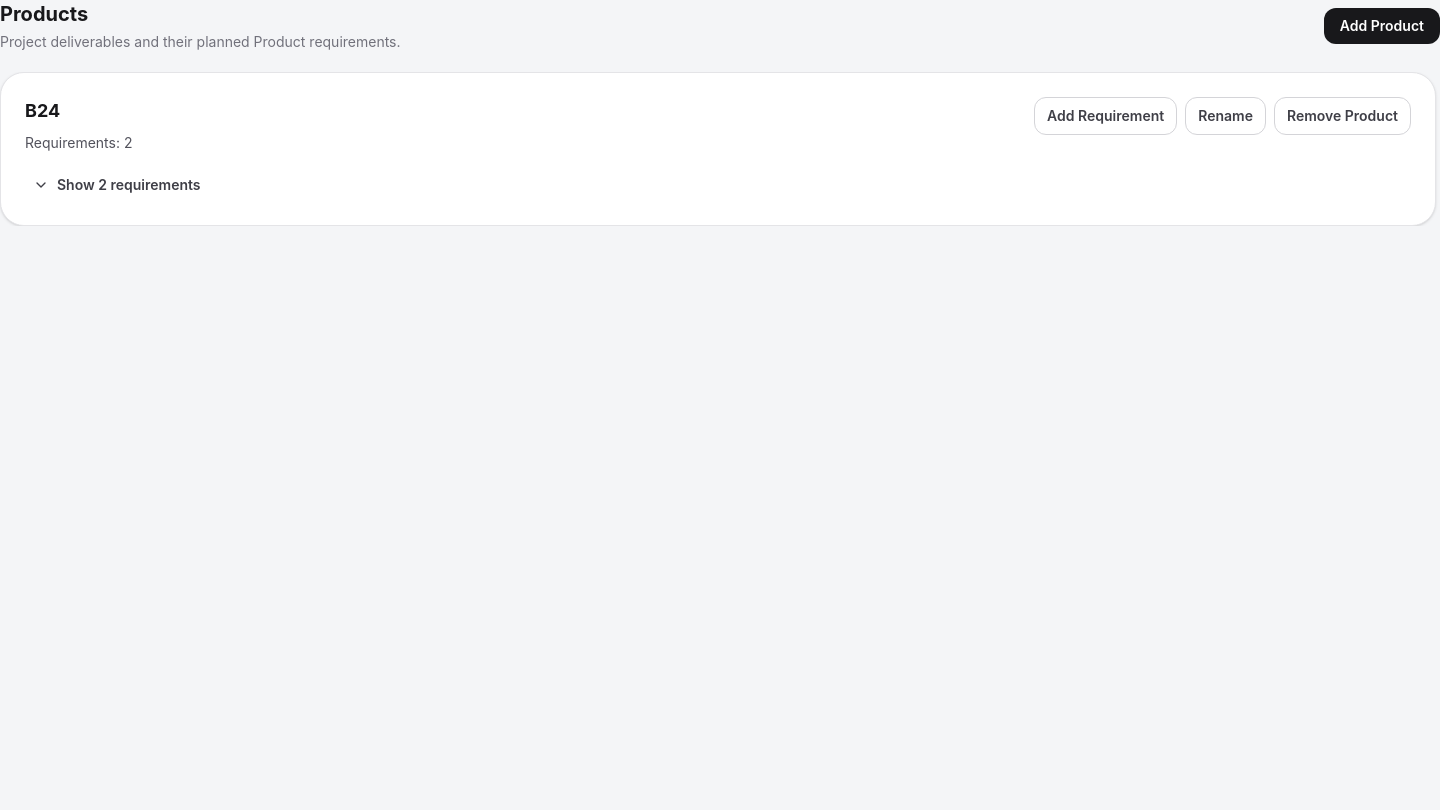
Test: ProjectPlanningSection › requires explicit removal and keeps child-present errors visible
Click the button "Remove Product" at (1342, 116), box left=1274, top=97, right=1411, bottom=135
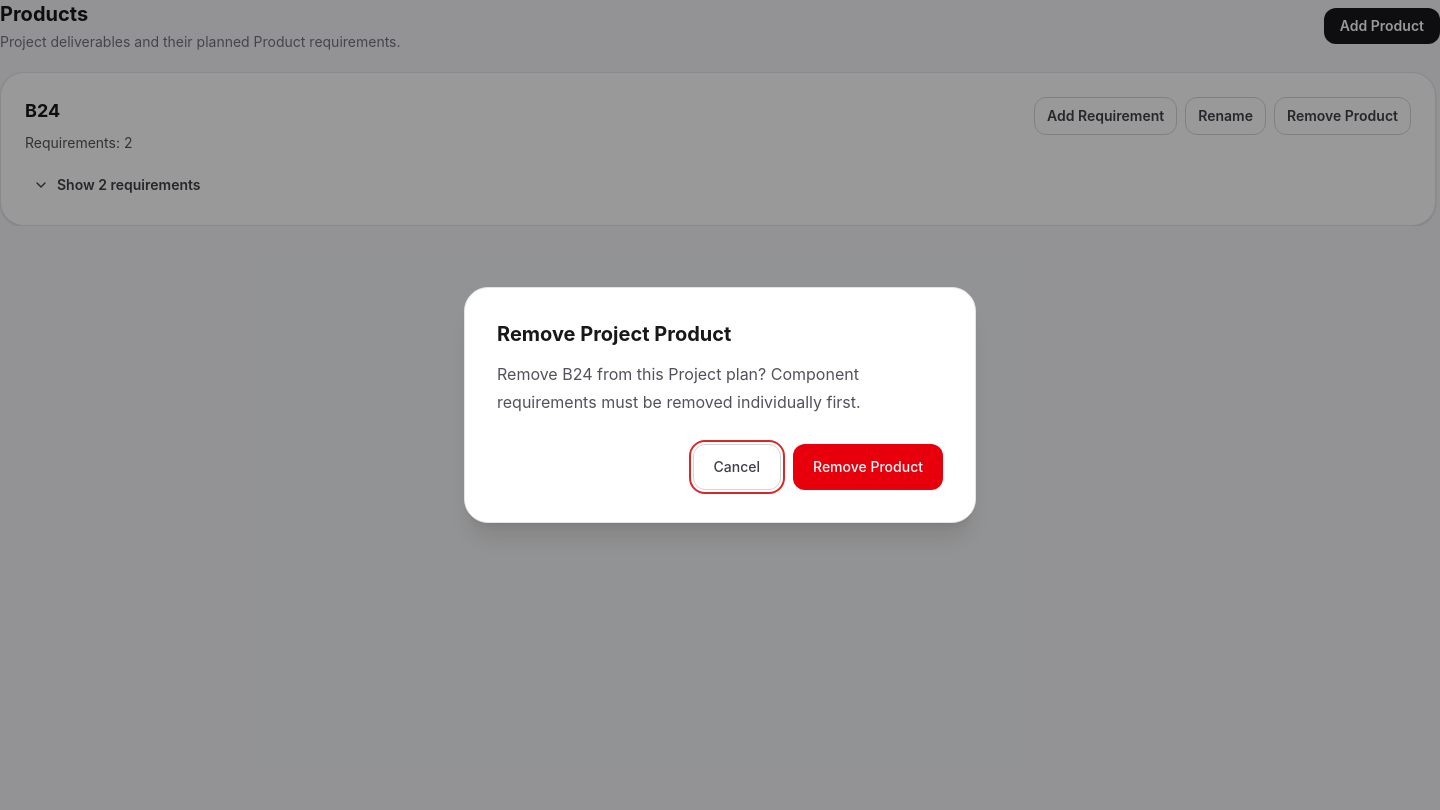
Click the button "Cancel" at (737, 467), box left=692, top=444, right=781, bottom=490
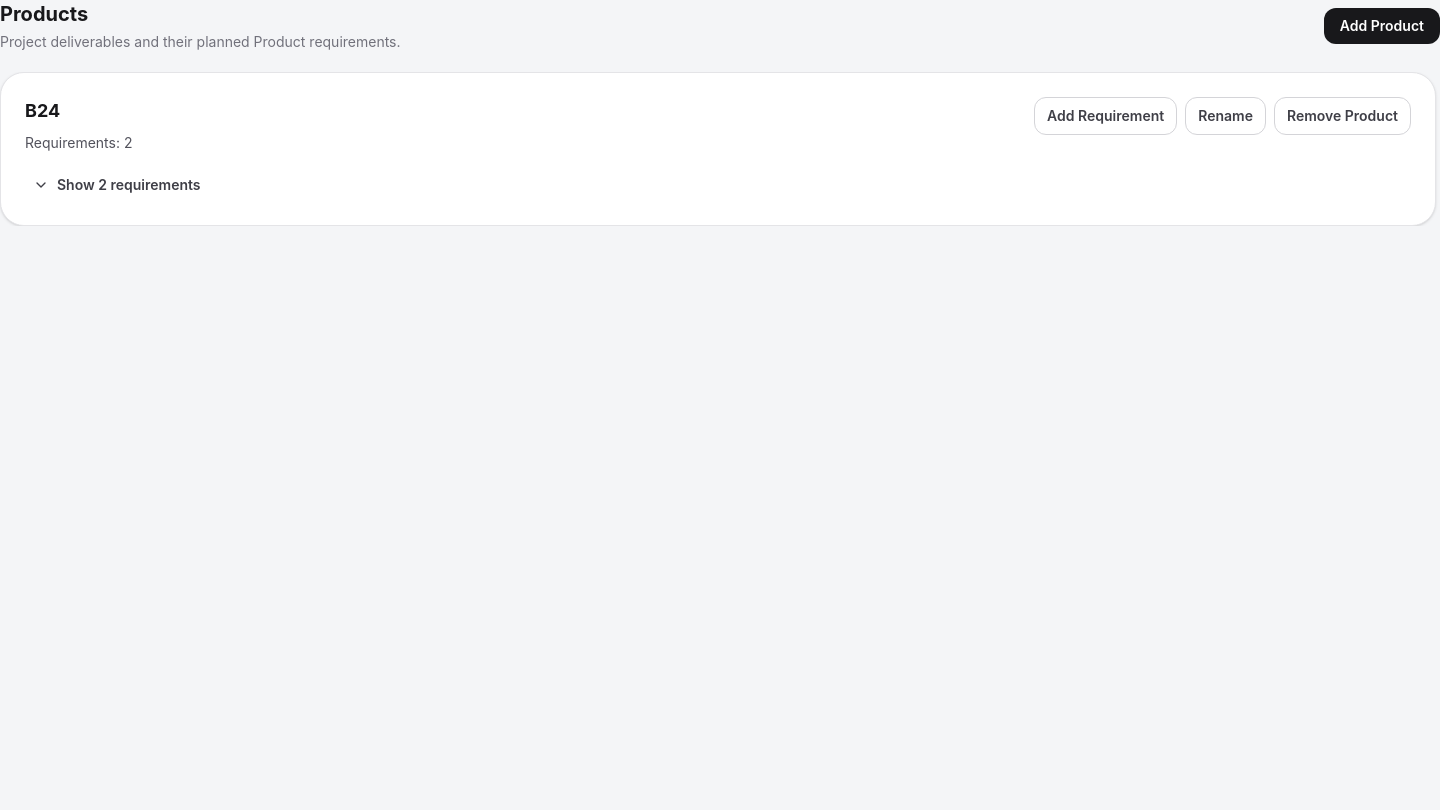
Click the button "Remove Product" at (1342, 116), box left=1274, top=97, right=1411, bottom=135
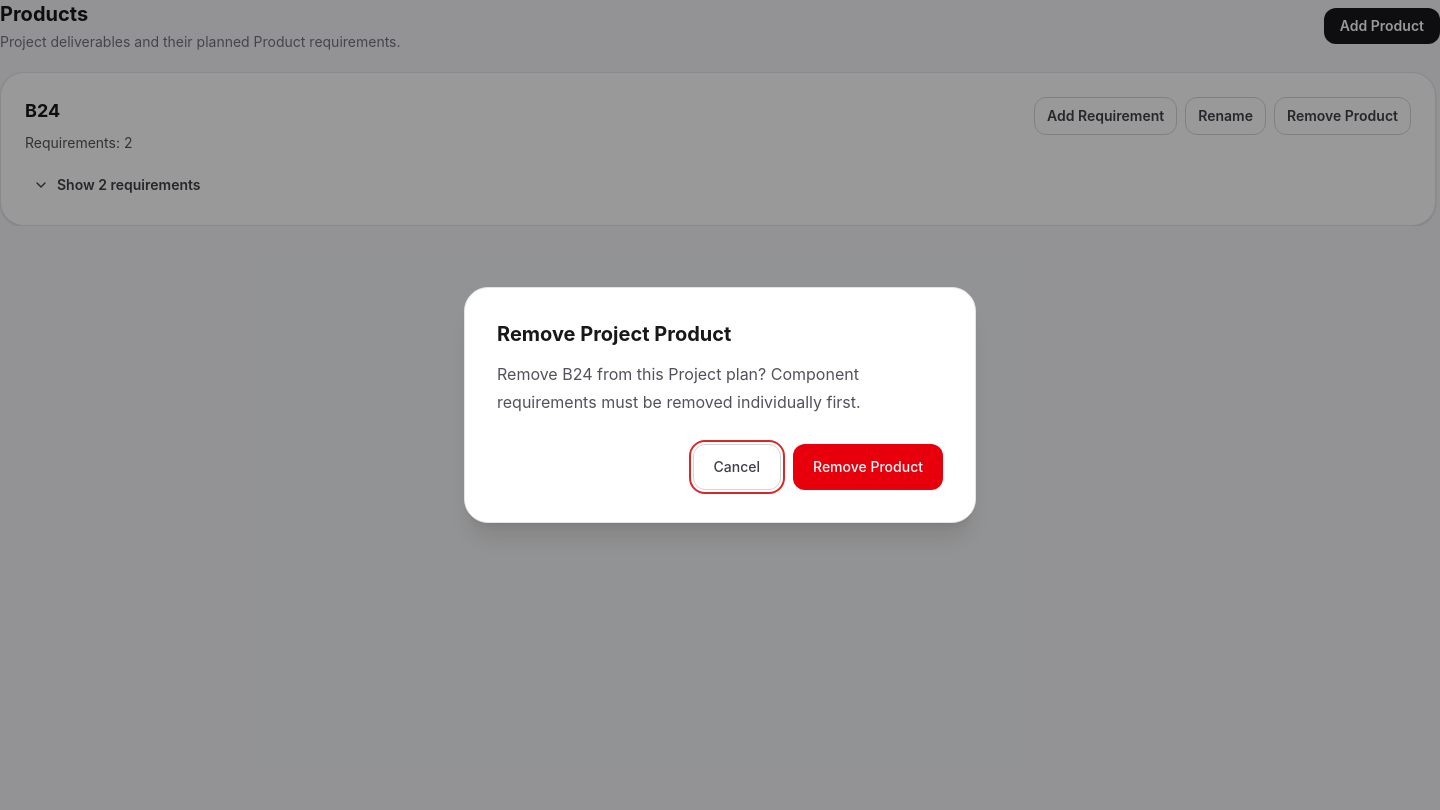
Click the button "Remove Product" at (868, 467), box left=793, top=444, right=943, bottom=490
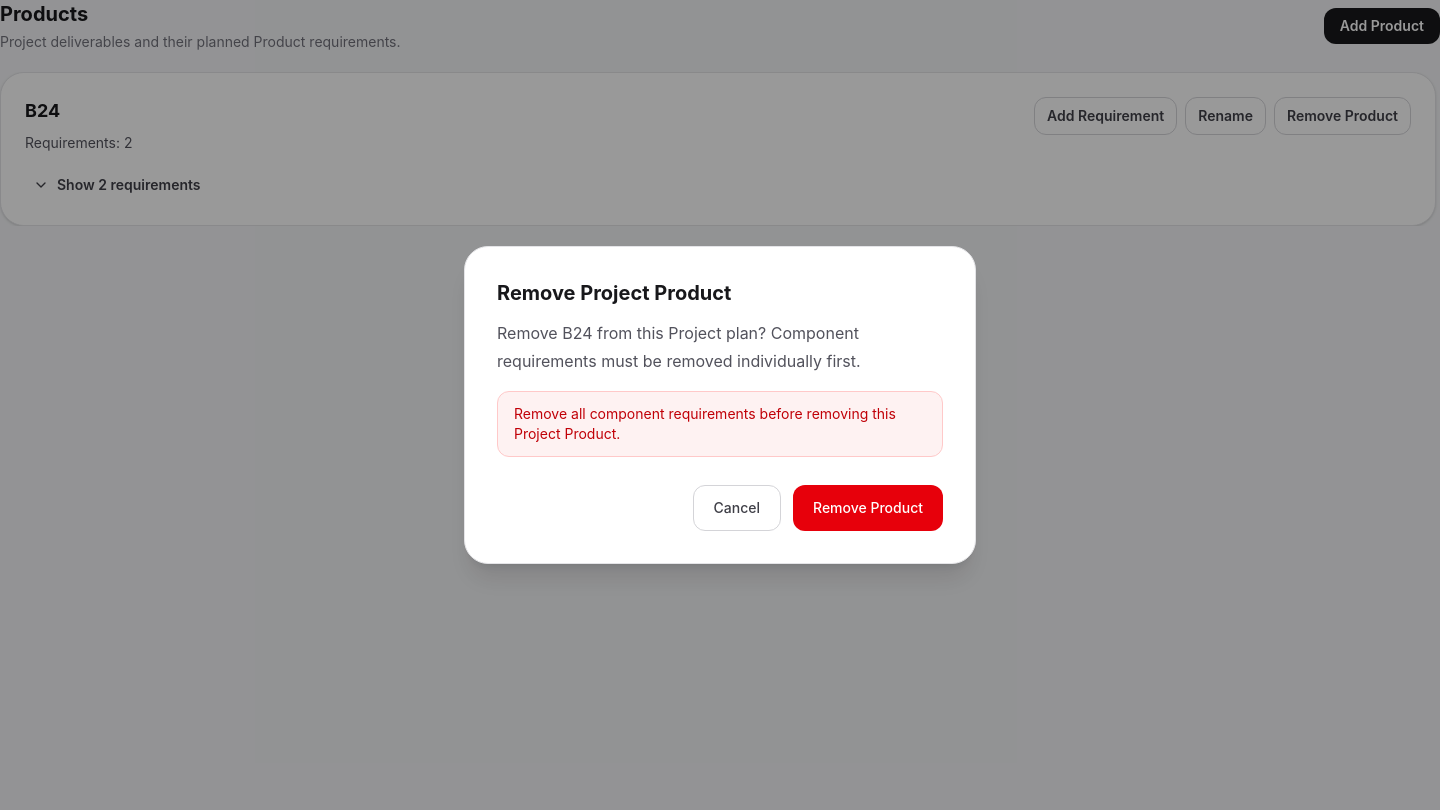
Check: the message shows "Remove all component requirements", box left=514, top=405, right=896, bottom=442
